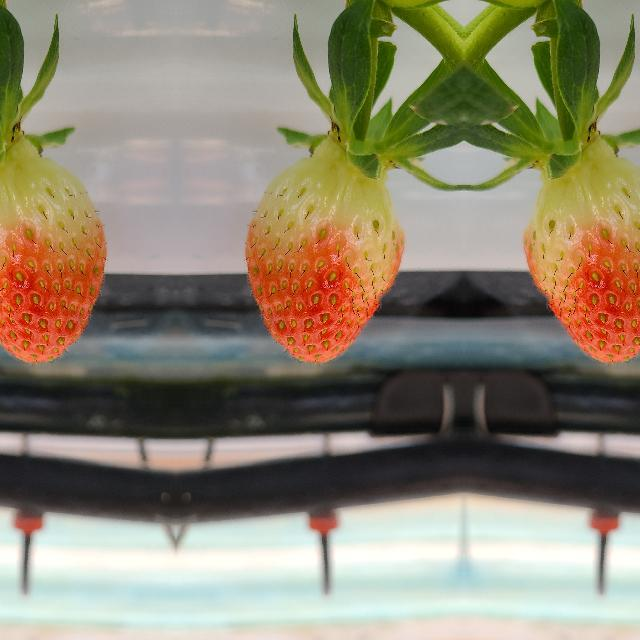Health_75: (242, 143, 404, 367), (521, 143, 640, 367), (0, 143, 108, 367)
